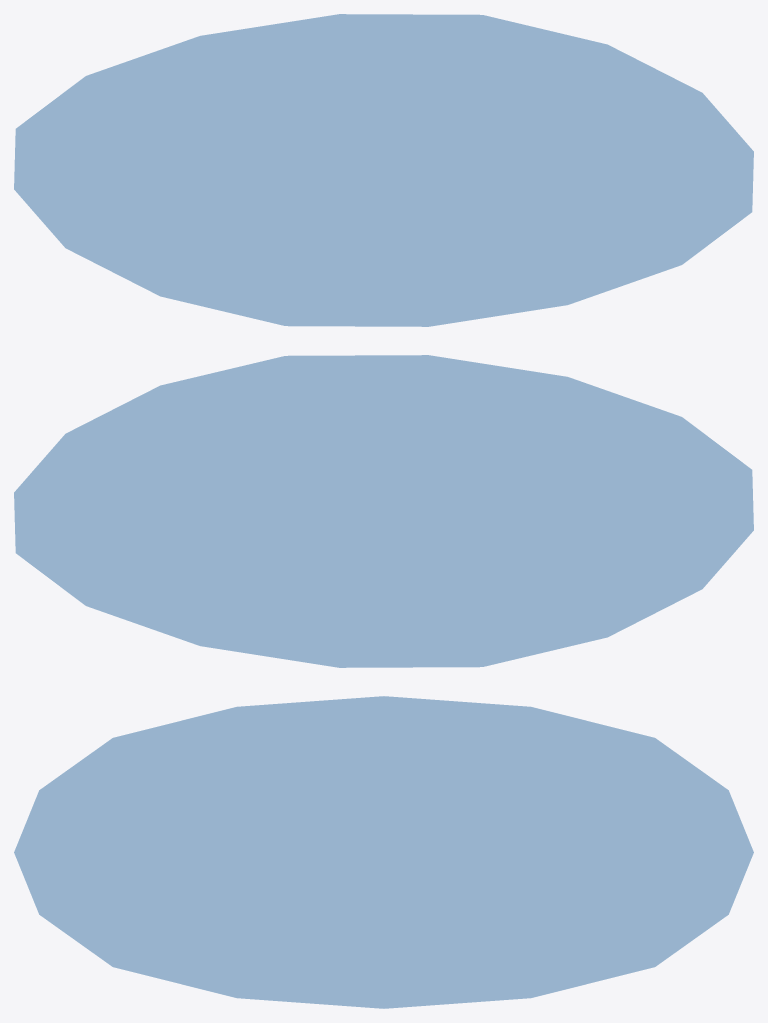
File: BabyCarpet.fbx
3 renders of one model, top to bottom at view 1: azimuth 30°, elevation 25°; view 2: azimuth 150°, elevation 25°; view 3: azimuth 270°, elevation 25°, orthographic.
Parts seen in each view (by area): view 1: BabyCarpet; view 2: BabyCarpet; view 3: BabyCarpet.
Boxes of the visible parts, bbox=[...] form: BabyCarpet: bbox=[14, 14, 753, 326]; BabyCarpet: bbox=[14, 355, 753, 667]; BabyCarpet: bbox=[14, 696, 753, 1008].
Bounding box in the file's own units: 350 × 350 × 0.
